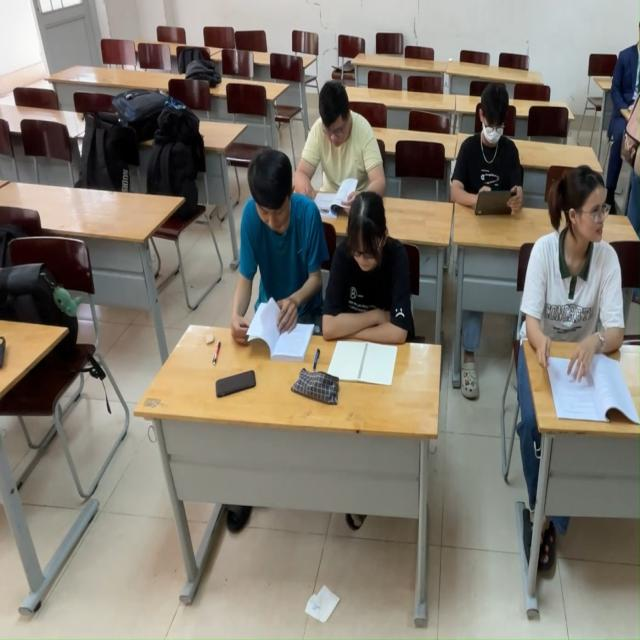read: (519, 168, 634, 419), (226, 157, 328, 360), (321, 202, 441, 373), (290, 72, 395, 202), (446, 74, 527, 229)
